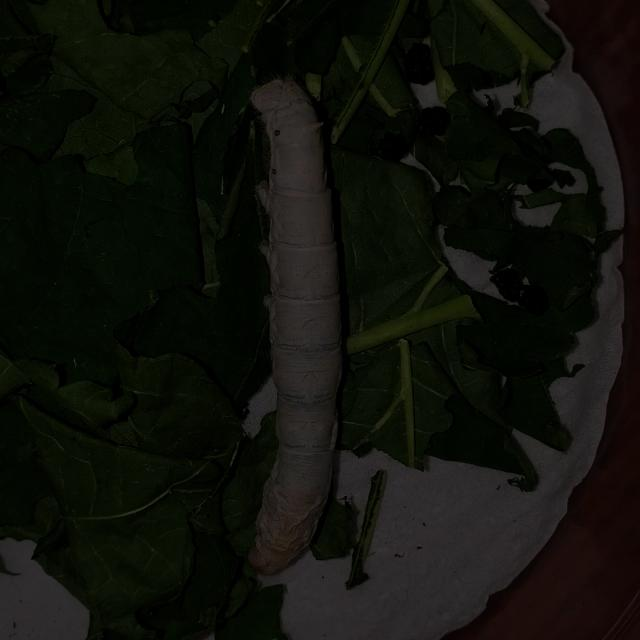Healthy: (204, 57, 403, 598)
